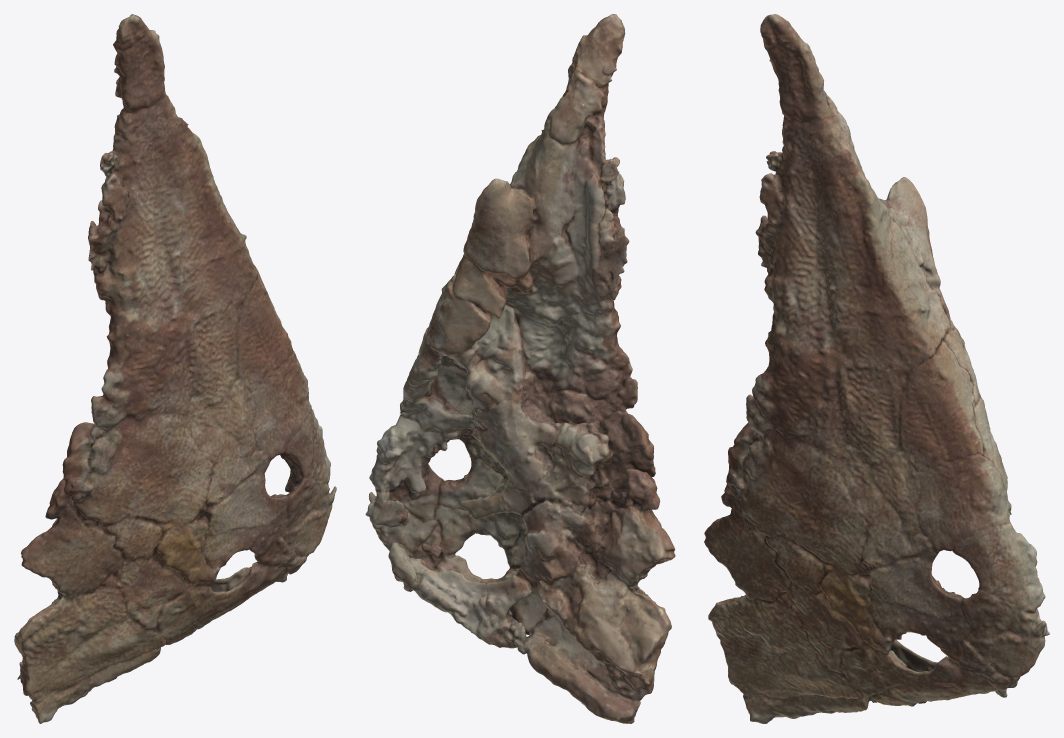
Rendered from diplocaulus.glb.
The picture shows the model from 3 angles, left to right: view 1: azimuth 30°, elevation 25°; view 2: azimuth 150°, elevation 25°; view 3: azimuth 330°, elevation 25°; orthographic projection. The views are drawn at different scales.
Visible parts, largest first — view 1: Diplocaulus_magnicornis-unwrapped-webmulti; view 2: Diplocaulus_magnicornis-unwrapped-webmulti; view 3: Diplocaulus_magnicornis-unwrapped-webmulti.
Boxes of the visible parts, x1,y1,x2,y2 form: Diplocaulus_magnicornis-unwrapped-webmulti: (14, 14, 336, 723); Diplocaulus_magnicornis-unwrapped-webmulti: (365, 14, 675, 723); Diplocaulus_magnicornis-unwrapped-webmulti: (704, 14, 1049, 723).
Size of the model in its own units: 0.1562 by 0.3351 by 0.0401.
Materials: 1 (1 with a texture image).
